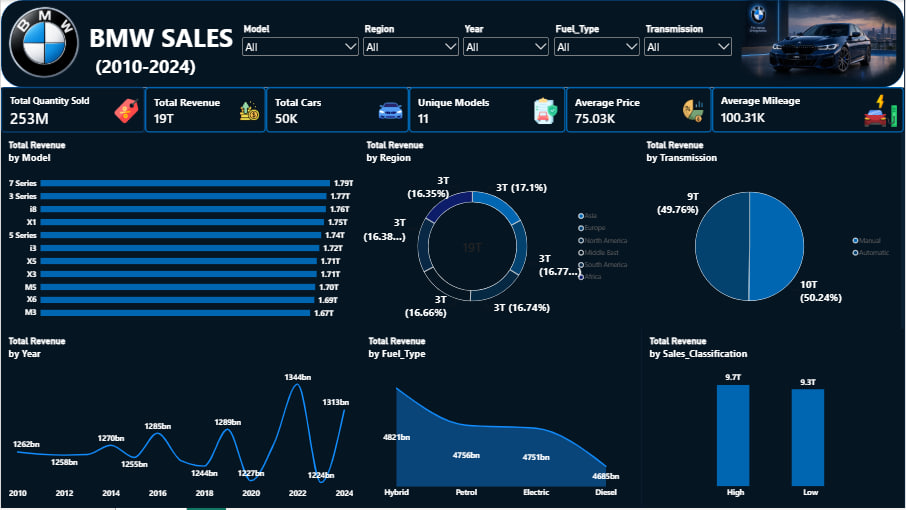

The page's visual inventory and layout, read from the dashboard file:
{"tool":"powerbi","page":{"name":"Page 1","canvas":[1920,1080],"ordinal":0},"visuals":[{"type":"shape","box":[0,0,1920.2,129.6],"z":0},{"type":"textbox","box":[25.9,21.6,639.4,79.9],"z":1000},{"type":"cardVisual","fields":{"Data":["BMW_clean.Total Quantity Sold"]},"box":[0,136.1,257,146.9],"z":2000},{"type":"cardVisual","fields":{"Data":["BMW_clean.Total Revenue"]},"box":[306.7,136.1,257,146.9],"z":3000},{"type":"cardVisual","fields":{"Data":["BMW_clean.Total Cars"]},"box":[619.9,136.1,248.4,146.9],"z":4000},{"type":"cardVisual","fields":{"Data":["BMW_clean.Unique Models"]},"box":[939.6,136.1,261.4,146.9],"z":5000},{"type":"cardVisual","fields":{"Data":["BMW_clean.Average Mileage"]},"box":[1576.8,136.1,254.9,146.9],"z":6000},{"type":"cardVisual","fields":{"Data":["BMW_clean.Average Price"]},"box":[1248.5,136.1,263.5,146.9],"z":7000},{"type":"clusteredBarChart","fields":{"Category":["BMW_clean.Model"],"Y":["BMW_clean.Total Revenue"]},"box":[0,283,764.6,406.1],"z":8000},{"type":"donutChart","fields":{"Category":["BMW_clean.Region"],"Y":["BMW_clean.Total Revenue"]},"box":[764.6,283,596.2,406.1],"z":9000},{"type":"lineChart","fields":{"Category":["BMW_clean.Year"],"Y":["BMW_clean.Total Revenue"]},"box":[0,699.8,764.6,380.2],"z":10000},{"type":"pieChart","fields":{"Category":["BMW_clean.Transmission"],"Y":["BMW_clean.Total Revenue"]},"box":[1363,283,557.3,416.9],"z":11000},{"type":"stackedAreaChart","fields":{"Category":["BMW_clean.Fuel_Type"],"Y":["BMW_clean.Total Revenue"]},"box":[765,700,596,380],"z":12000},{"type":"columnChart","fields":{"Category":["BMW_clean.Sales_Classification"],"Y":["BMW_clean.Total Revenue"]},"box":[1363,700,557,380],"z":13000},{"type":"slicer","fields":{"Values":["BMW_clean.Model"]},"box":[658.8,13,248.4,101.5],"z":14000},{"type":"slicer","fields":{"Values":["BMW_clean.Region"]},"box":[948.2,13,237.6,101.5],"z":15000},{"type":"slicer","fields":{"Values":["BMW_clean.Fuel_Type"]},"box":[1201,13,237.6,101.5],"z":16000},{"type":"slicer","fields":{"Values":["BMW_clean.Year"]},"box":[1458,13,237.6,101.5],"z":17000},{"type":"slicer","fields":{"Values":["BMW_clean.Transmission"]},"box":[1695.6,10.8,224.6,101.5],"z":18000}]}

Visuals, with their boxes in screenshot pixels (x1, y1, x2, y2), scaled from the page's 1920x1080 canvas onto the 906x510 screenshot:
shape: [x1=0, y1=0, x2=905, y2=61]
textbox: [x1=12, y1=10, x2=314, y2=48]
cardVisual - BMW_clean.Total Quantity Sold: [x1=0, y1=64, x2=121, y2=134]
cardVisual - BMW_clean.Total Revenue: [x1=145, y1=64, x2=266, y2=134]
cardVisual - BMW_clean.Total Cars: [x1=293, y1=64, x2=410, y2=134]
cardVisual - BMW_clean.Unique Models: [x1=443, y1=64, x2=567, y2=134]
cardVisual - BMW_clean.Average Mileage: [x1=744, y1=64, x2=864, y2=134]
cardVisual - BMW_clean.Average Price: [x1=589, y1=64, x2=713, y2=134]
clusteredBarChart - BMW_clean.Model x BMW_clean.Total Revenue: [x1=0, y1=134, x2=361, y2=325]
donutChart - BMW_clean.Region x BMW_clean.Total Revenue: [x1=361, y1=134, x2=642, y2=325]
lineChart - BMW_clean.Year x BMW_clean.Total Revenue: [x1=0, y1=330, x2=361, y2=509]
pieChart - BMW_clean.Transmission x BMW_clean.Total Revenue: [x1=643, y1=134, x2=905, y2=331]
stackedAreaChart - BMW_clean.Fuel_Type x BMW_clean.Total Revenue: [x1=361, y1=331, x2=642, y2=509]
columnChart - BMW_clean.Sales_Classification x BMW_clean.Total Revenue: [x1=643, y1=331, x2=905, y2=509]
slicer - BMW_clean.Model: [x1=311, y1=6, x2=428, y2=54]
slicer - BMW_clean.Region: [x1=447, y1=6, x2=560, y2=54]
slicer - BMW_clean.Fuel_Type: [x1=567, y1=6, x2=679, y2=54]
slicer - BMW_clean.Year: [x1=688, y1=6, x2=800, y2=54]
slicer - BMW_clean.Transmission: [x1=800, y1=5, x2=905, y2=53]
